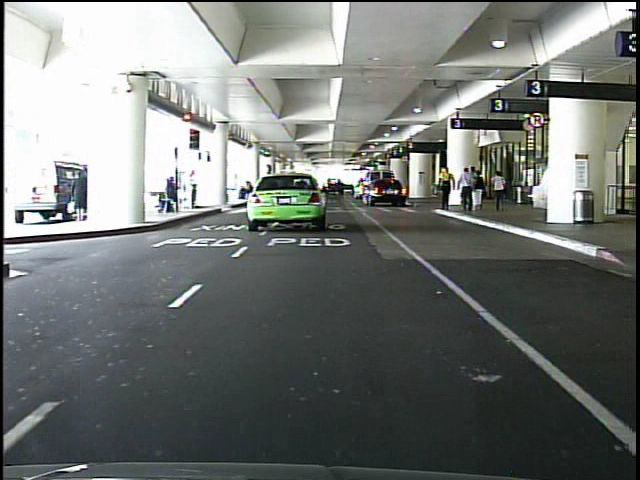person: (72, 170, 95, 223), (434, 164, 456, 216), (486, 170, 510, 217), (456, 166, 477, 216), (472, 170, 488, 215), (189, 169, 204, 213)
